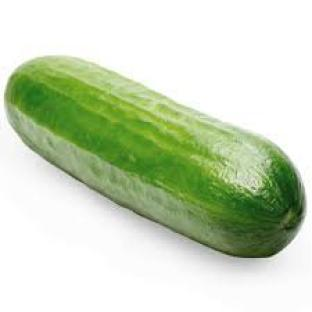Cucumber: (6, 57, 305, 256)
